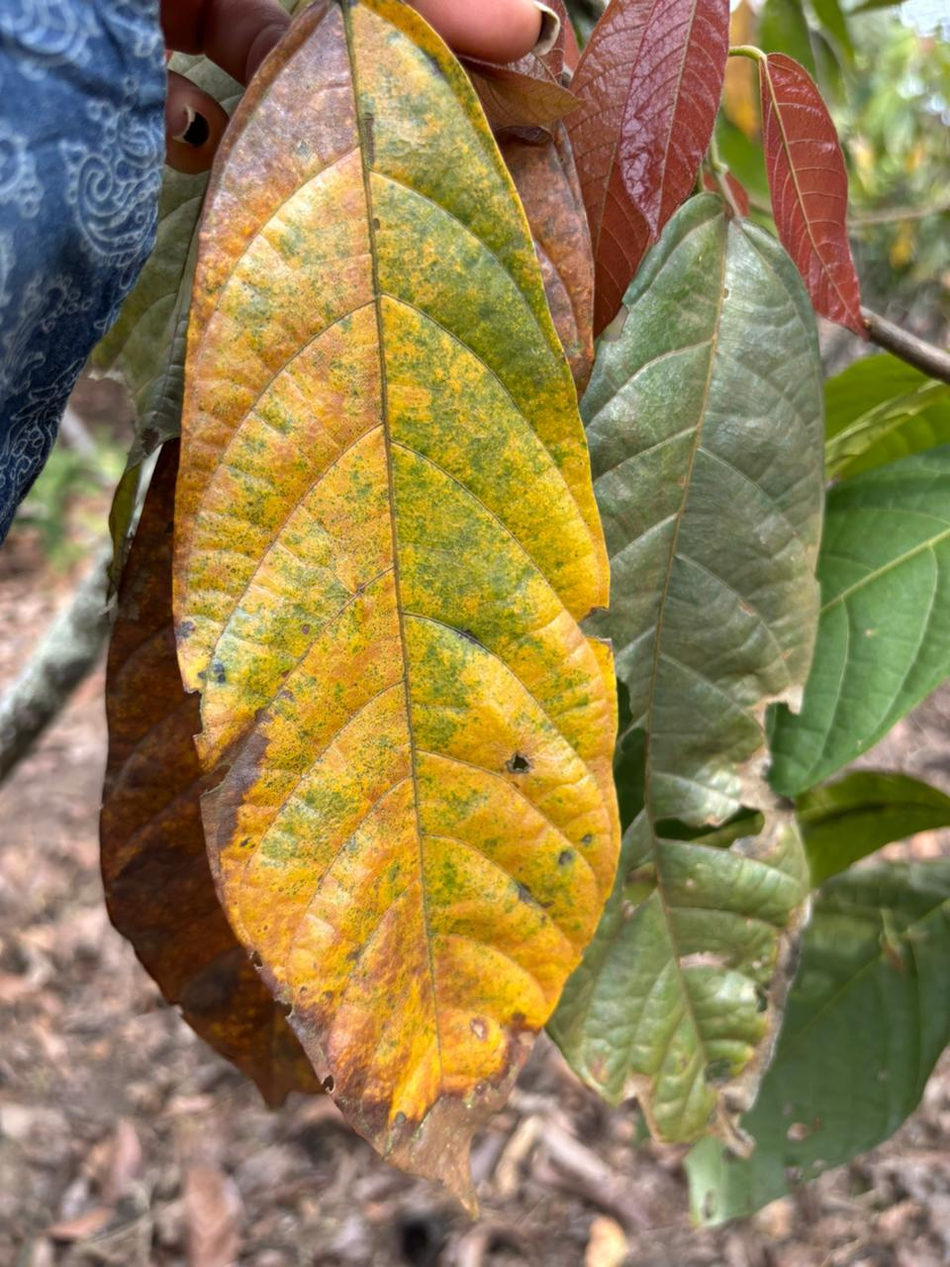deficienciia_fosforo: (174, 0, 618, 1199)
